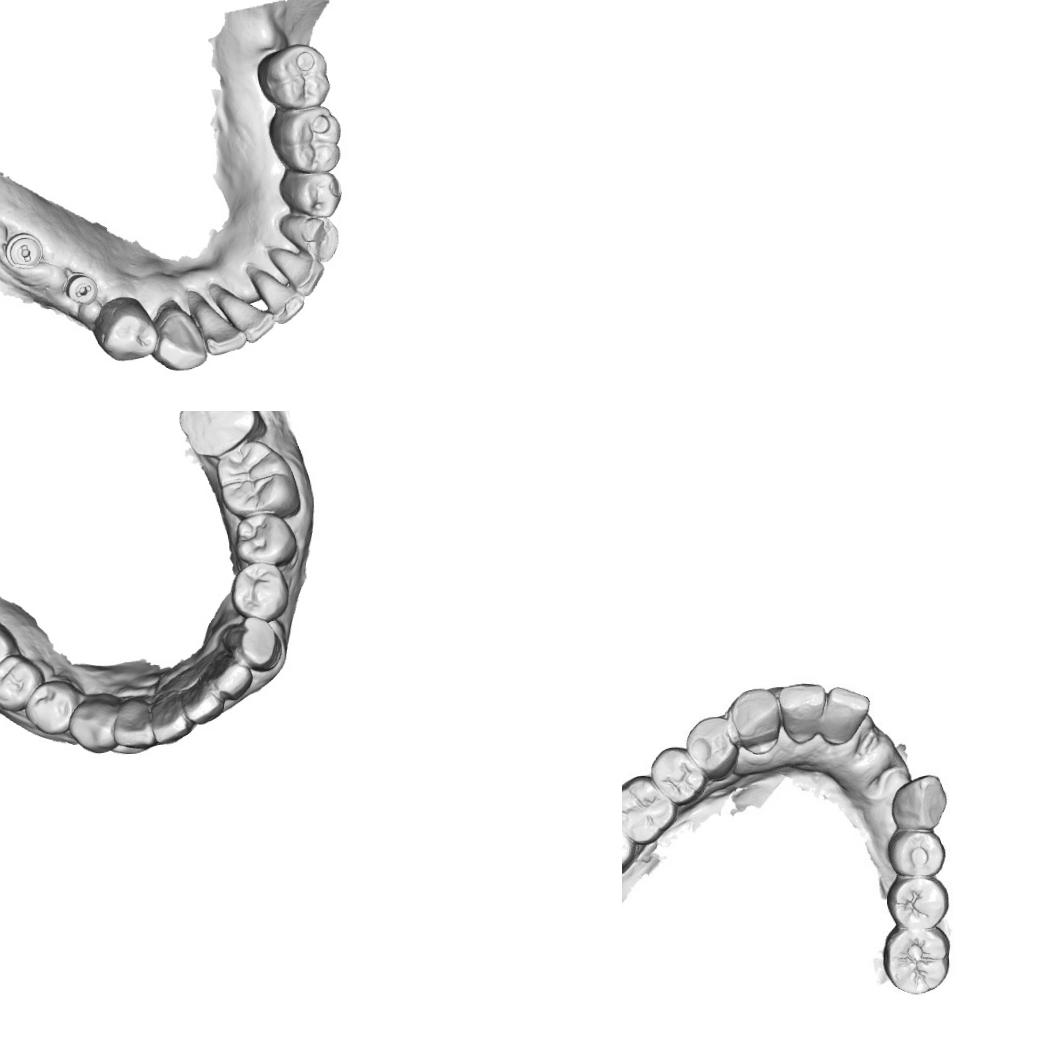canine: (151, 298, 213, 374), (67, 690, 123, 756), (228, 613, 285, 676), (281, 212, 342, 262), (730, 690, 780, 748), (893, 774, 948, 825)
implant_minus: (2, 230, 50, 278), (59, 267, 99, 307)
incisor: (250, 266, 307, 328), (197, 294, 248, 358), (266, 245, 325, 300), (822, 686, 869, 750), (777, 684, 824, 743), (148, 684, 192, 746), (180, 671, 227, 729), (223, 300, 281, 346), (113, 696, 156, 752), (210, 654, 256, 705)
molar: (214, 439, 303, 520), (270, 106, 346, 176), (255, 42, 330, 109), (174, 411, 269, 461), (886, 929, 950, 994), (622, 776, 675, 842), (0, 611, 22, 686)
premolar: (229, 560, 294, 626), (92, 298, 155, 365), (230, 510, 298, 566), (276, 166, 344, 220), (22, 678, 82, 738), (685, 717, 740, 775), (651, 743, 701, 806), (890, 878, 950, 928), (0, 651, 44, 713), (890, 828, 949, 874)
